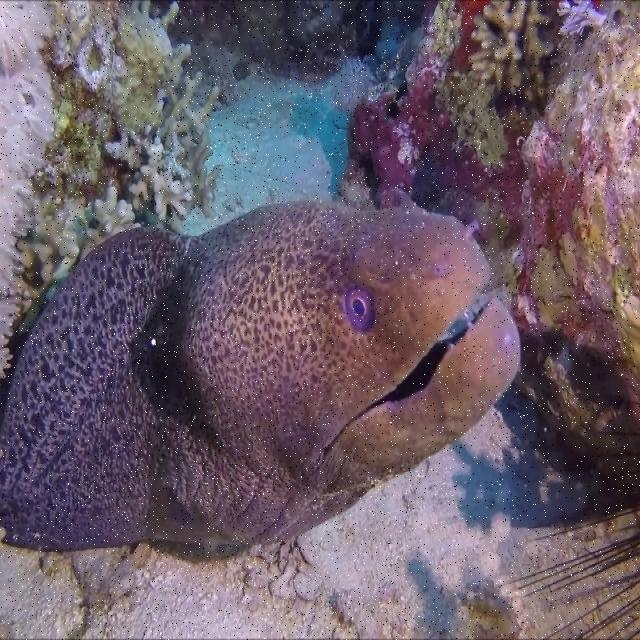fish: (0, 202, 521, 562)
reefs: (470, 0, 554, 102)
